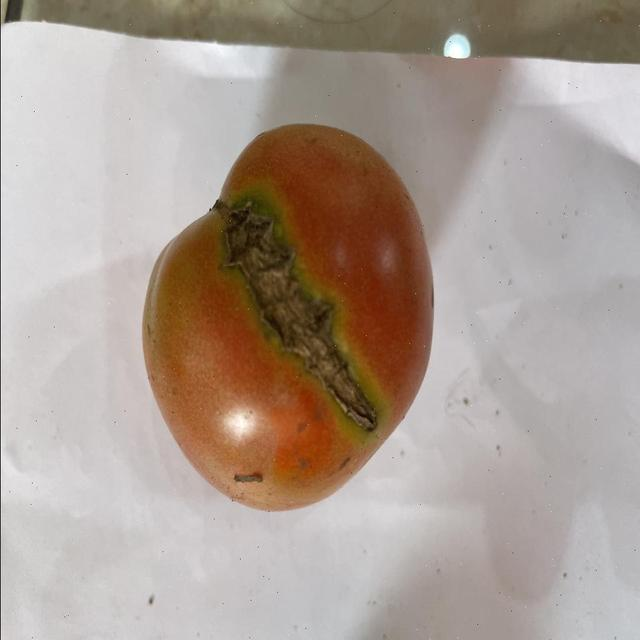Cracking Fruit: (107, 59, 258, 191)
